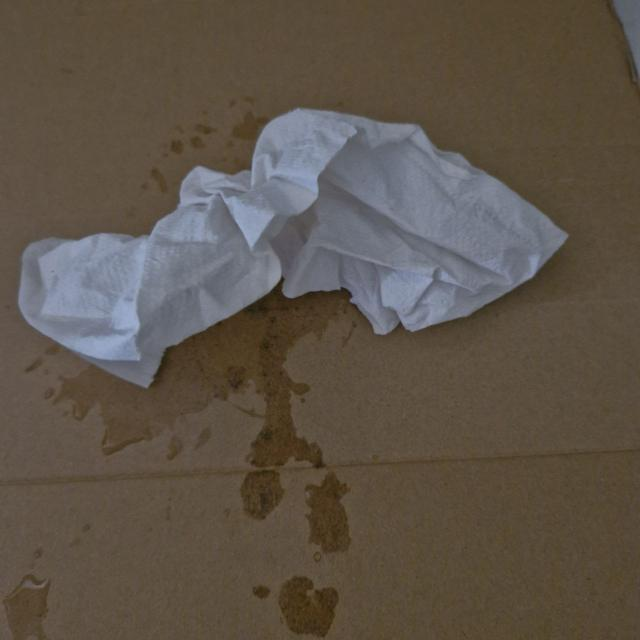paper: (20, 103, 577, 393)
